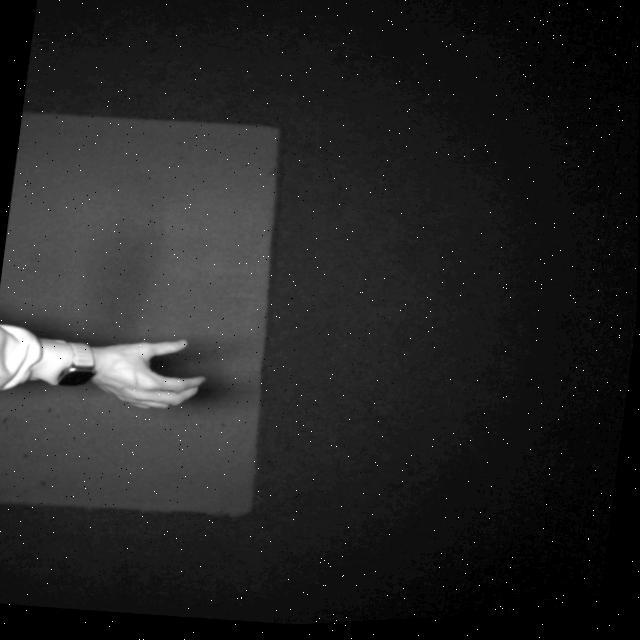no-gloves: (88, 324, 212, 424)
